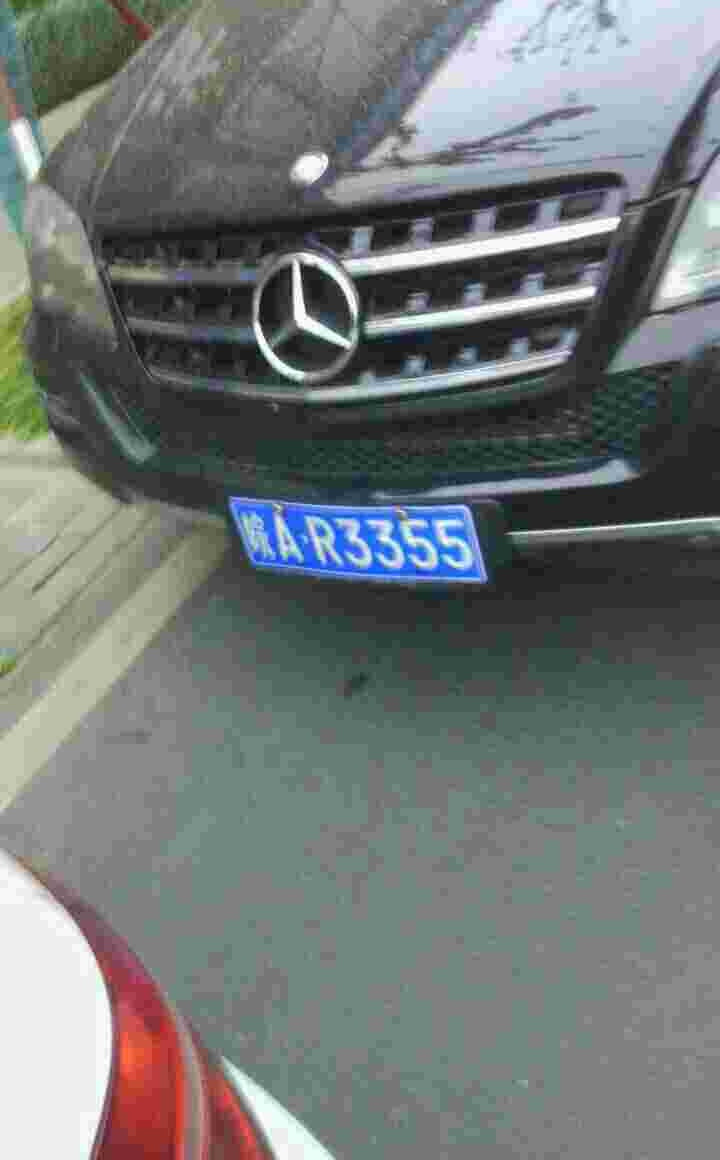license_plate: (236, 496, 507, 582)
